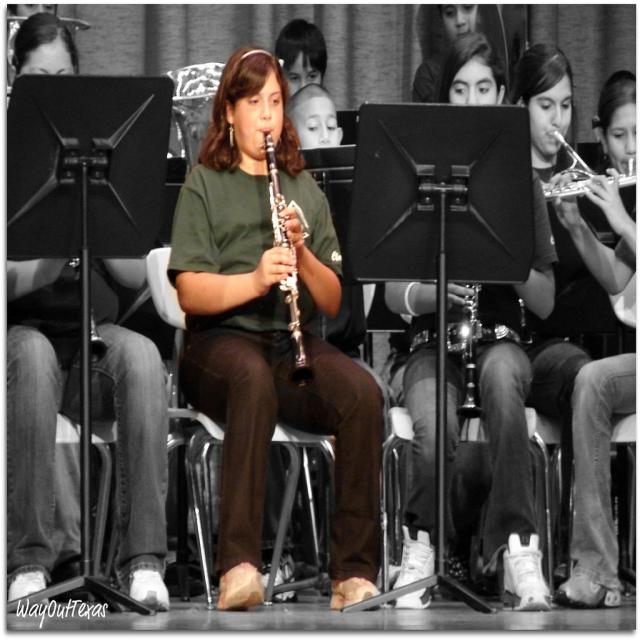clarinet: (260, 127, 316, 368), (458, 280, 489, 425), (70, 257, 109, 365)
